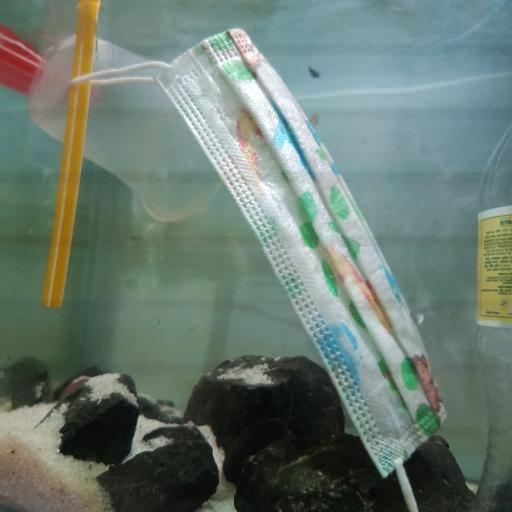mask: (109, 22, 455, 484)
plastic_bottle: (473, 117, 512, 510)
plastic_cup: (24, 32, 228, 223)
plastic_straw: (40, 0, 100, 313), (2, 23, 51, 80)
